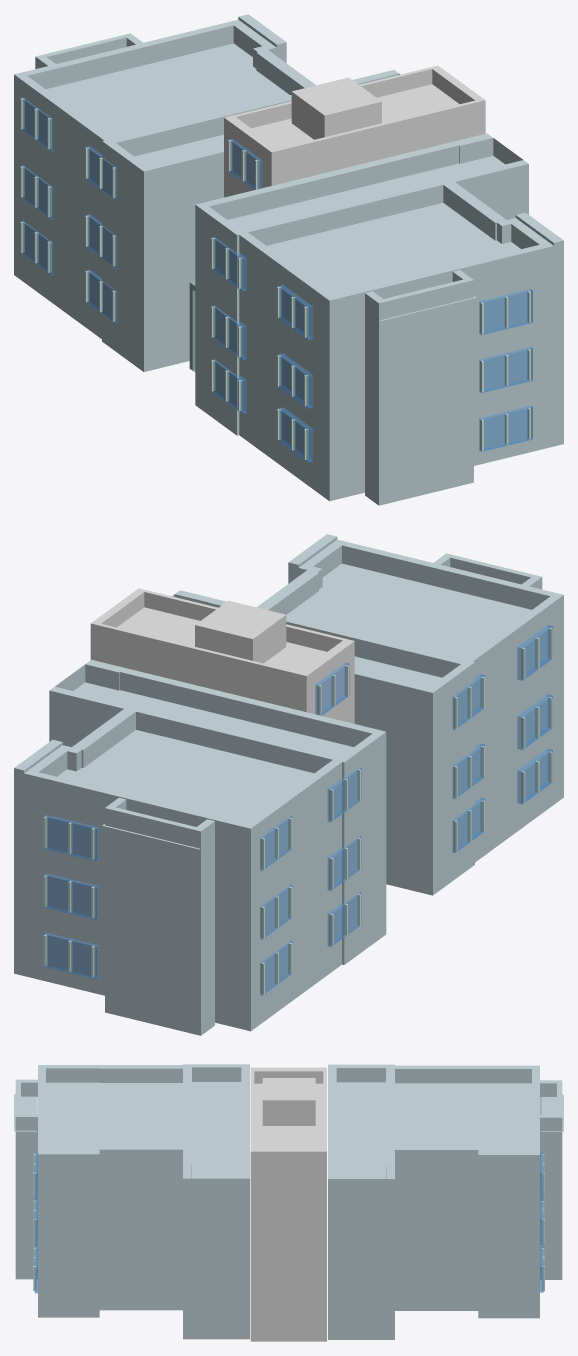
The model's file is staffbig.glb.
3 views of the same model, one above another, from view 1: azimuth 30°, elevation 25°; view 2: azimuth 150°, elevation 25°; view 3: azimuth 270°, elevation 25° (orthographic). The views are drawn at different scales.
Visible parts, largest first — view 1: Cube.004, Cube.005, Cube, Cube.001, Cube.024, Cube.026, Cube.025, Cube.013, Cube.015, Cube.017, Cube.014, Cube.016 (+9 smaller); view 2: Cube.005, Cube.004, Cube, Cube.001, Cube.021, Cube.023, Cube.022, Cube.017, Cube.013, Cube.015, Cube.019, Cube.006 (+8 smaller); view 3: Cube.005, Cube.004, Cube, Cube.001.
Boxes of the visible parts, box(x1,y1,x2,y2) form: Cube.004: box(195, 133, 563, 505); Cube.005: box(14, 14, 400, 371); Cube: box(224, 65, 485, 197); Cube.001: box(291, 77, 381, 139); Cube.024: box(479, 289, 532, 334); Cube.026: box(479, 406, 532, 451); Cube.025: box(479, 347, 532, 393); Cube.013: box(277, 285, 313, 340); Cube.015: box(277, 353, 313, 408); Cube.017: box(277, 407, 313, 462); Cube.014: box(211, 305, 246, 359); Cube.016: box(211, 359, 246, 413); Cube.005: box(14, 659, 386, 1035); Cube.004: box(172, 534, 563, 895); Cube: box(90, 588, 354, 723); Cube.001: box(195, 600, 286, 663); Cube.021: box(43, 815, 98, 861); Cube.023: box(43, 933, 98, 979); Cube.022: box(43, 873, 98, 919); Cube.017: box(517, 748, 552, 804); Cube.013: box(517, 625, 552, 680); Cube.015: box(517, 694, 552, 749); Cube.019: box(315, 662, 349, 715); Cube.006: box(327, 767, 361, 821); Cube.005: box(328, 1064, 563, 1339); Cube.004: box(14, 1064, 249, 1339); Cube: box(250, 1067, 326, 1341); Cube.001: box(262, 1078, 315, 1125).
Bounding box in the file's own units: 7.22 × 5.94 × 14.41.
